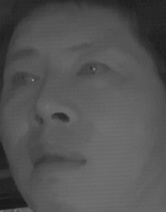eye: (73, 59, 115, 81), (7, 67, 42, 89)
mouth: (25, 139, 89, 178)
